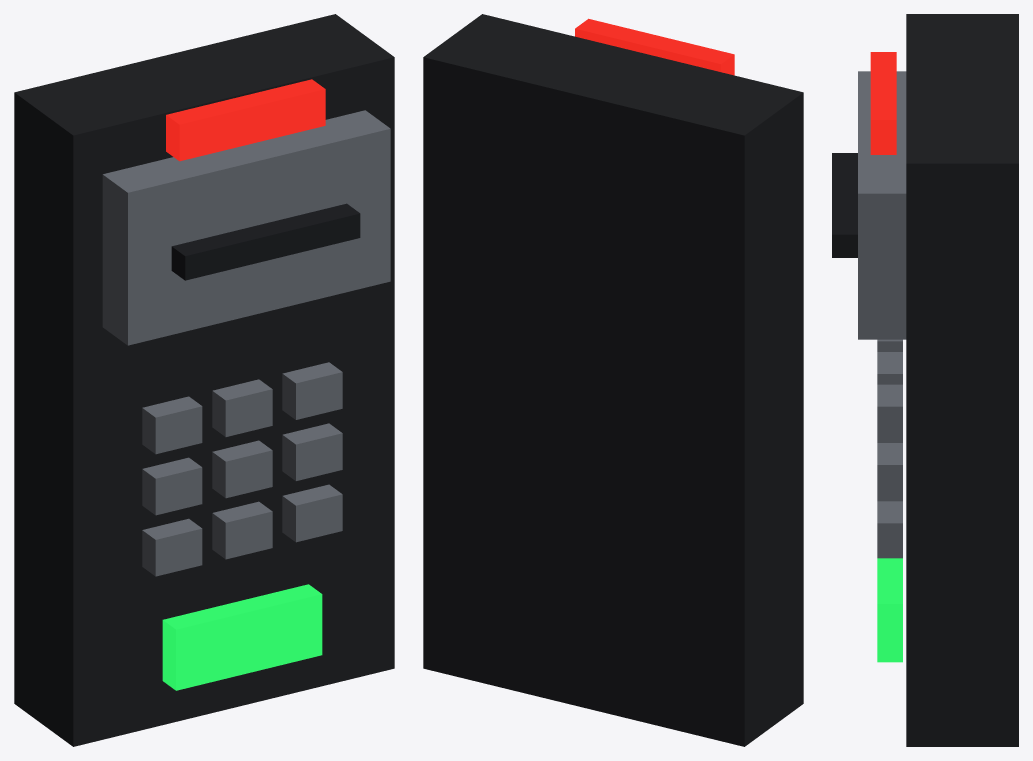
File: camera_card_reader.glb
3 renders of one model, left to right at view 1: azimuth 30°, elevation 25°; view 2: azimuth 150°, elevation 25°; view 3: azimuth 270°, elevation 25°, orthographic. The views are drawn at different scales.
Visible parts, largest first — view 1: camera_card_reader; view 2: camera_card_reader; view 3: camera_card_reader.
Boxes of the visible parts, left/top/right/bottom form: camera_card_reader: left=14, top=14, right=394, bottom=746; camera_card_reader: left=423, top=14, right=803, bottom=746; camera_card_reader: left=832, top=14, right=1018, bottom=746.
Size of the model in its own units: 0.11 by 0.201 by 0.058.
